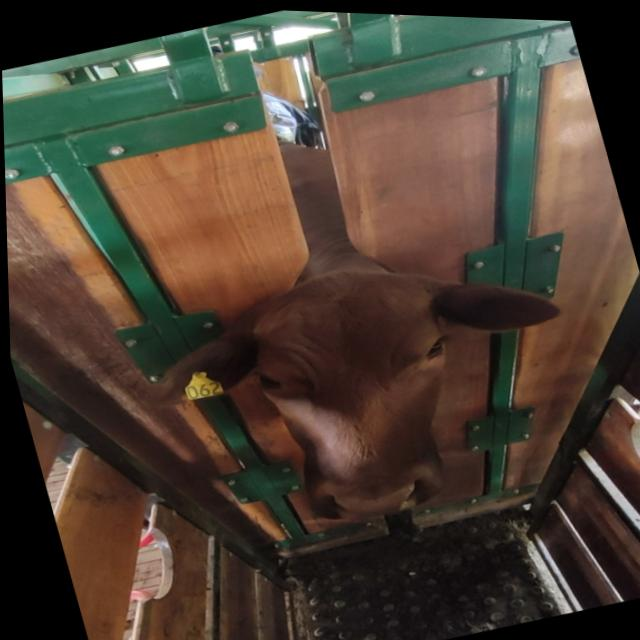cowFace: (232, 247, 492, 538)
